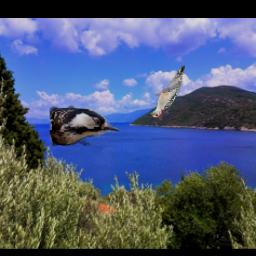Woodpecker: (50, 105, 119, 146), (146, 66, 185, 119)
